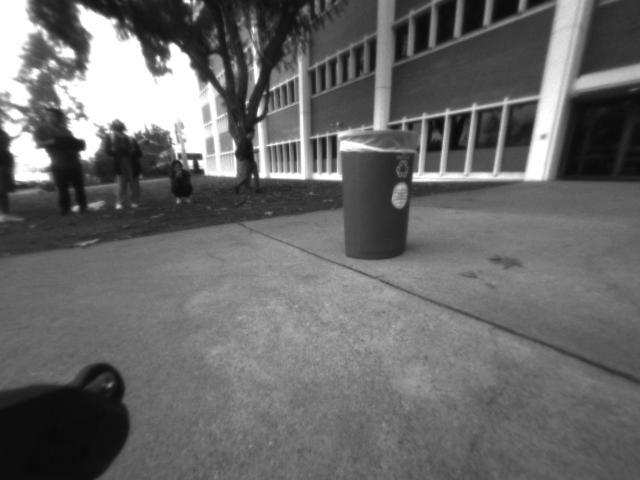trashcan: (331, 121, 426, 272)
